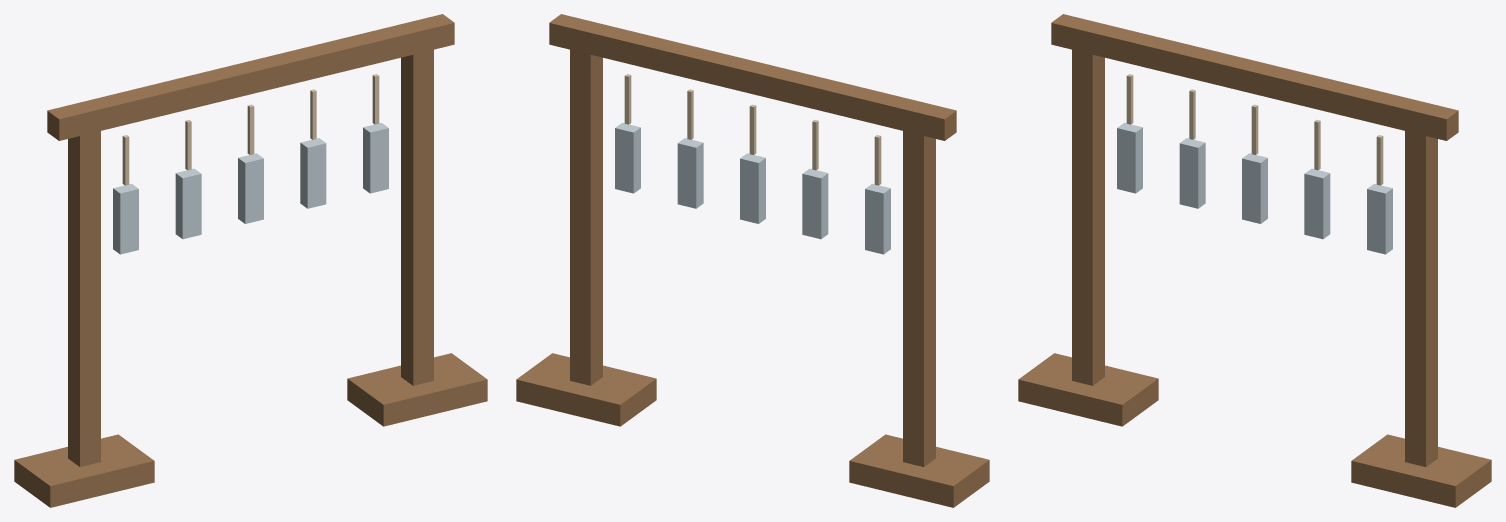
The model's file is ASTX_PROP_DRYRACK.glb.
3 views of the same model, side by side, from view 1: azimuth 30°, elevation 25°; view 2: azimuth 150°, elevation 25°; view 3: azimuth 330°, elevation 25° (orthographic).
Parts seen in each view (by area): view 1: ASTX_PROP_DRYRACK_bar, ASTX_PROP_DRYRACK_post-0.8, ASTX_PROP_DRYRACK_post0.8, ASTX_PROP_DRYRACK_foot0.8, ASTX_PROP_DRYRACK_foot-0.8, ASTX_PROP_DRYRACK_fish1, ASTX_PROP_DRYRACK_fish3, ASTX_PROP_DRYRACK_fish2, ASTX_PROP_DRYRACK_fish0, ASTX_PROP_DRYRACK_fish4; view 2: ASTX_PROP_DRYRACK_bar, ASTX_PROP_DRYRACK_post0.8, ASTX_PROP_DRYRACK_post-0.8, ASTX_PROP_DRYRACK_foot0.8, ASTX_PROP_DRYRACK_foot-0.8, ASTX_PROP_DRYRACK_fish1, ASTX_PROP_DRYRACK_fish3, ASTX_PROP_DRYRACK_fish2, ASTX_PROP_DRYRACK_fish0, ASTX_PROP_DRYRACK_fish4; view 3: ASTX_PROP_DRYRACK_bar, ASTX_PROP_DRYRACK_post-0.8, ASTX_PROP_DRYRACK_post0.8, ASTX_PROP_DRYRACK_foot-0.8, ASTX_PROP_DRYRACK_foot0.8, ASTX_PROP_DRYRACK_fish3, ASTX_PROP_DRYRACK_fish1, ASTX_PROP_DRYRACK_fish2, ASTX_PROP_DRYRACK_fish0, ASTX_PROP_DRYRACK_fish4.
Boxes of the visible parts, <box> form: ASTX_PROP_DRYRACK_bar: <box>47,14,454,140</box>; ASTX_PROP_DRYRACK_post-0.8: <box>68,113,100,466</box>; ASTX_PROP_DRYRACK_post0.8: <box>401,32,433,385</box>; ASTX_PROP_DRYRACK_foot0.8: <box>347,353,487,426</box>; ASTX_PROP_DRYRACK_foot-0.8: <box>14,434,154,507</box>; ASTX_PROP_DRYRACK_fish1: <box>175,168,201,239</box>; ASTX_PROP_DRYRACK_fish3: <box>300,138,326,208</box>; ASTX_PROP_DRYRACK_fish2: <box>238,153,263,223</box>; ASTX_PROP_DRYRACK_fish0: <box>113,183,138,254</box>; ASTX_PROP_DRYRACK_fish4: <box>363,123,388,193</box>; ASTX_PROP_DRYRACK_bar: <box>549,14,956,140</box>; ASTX_PROP_DRYRACK_post0.8: <box>570,32,602,385</box>; ASTX_PROP_DRYRACK_post-0.8: <box>903,114,935,466</box>; ASTX_PROP_DRYRACK_foot0.8: <box>516,353,656,426</box>; ASTX_PROP_DRYRACK_foot-0.8: <box>849,434,989,507</box>; ASTX_PROP_DRYRACK_fish1: <box>802,168,828,239</box>; ASTX_PROP_DRYRACK_fish3: <box>677,138,703,208</box>; ASTX_PROP_DRYRACK_fish2: <box>740,153,765,223</box>; ASTX_PROP_DRYRACK_fish0: <box>865,183,890,254</box>; ASTX_PROP_DRYRACK_fish4: <box>615,123,640,193</box>; ASTX_PROP_DRYRACK_bar: <box>1051,14,1458,140</box>; ASTX_PROP_DRYRACK_post-0.8: <box>1072,32,1104,385</box>; ASTX_PROP_DRYRACK_post0.8: <box>1405,114,1437,466</box>; ASTX_PROP_DRYRACK_foot-0.8: <box>1018,353,1158,426</box>; ASTX_PROP_DRYRACK_foot0.8: <box>1351,434,1491,507</box>; ASTX_PROP_DRYRACK_fish3: <box>1304,168,1330,239</box>; ASTX_PROP_DRYRACK_fish1: <box>1179,138,1205,208</box>; ASTX_PROP_DRYRACK_fish2: <box>1242,153,1267,223</box>; ASTX_PROP_DRYRACK_fish0: <box>1117,123,1142,193</box>; ASTX_PROP_DRYRACK_fish4: <box>1367,183,1392,254</box>.
Bounding box in the file's own units: 2.1 × 1.72 × 0.3.
